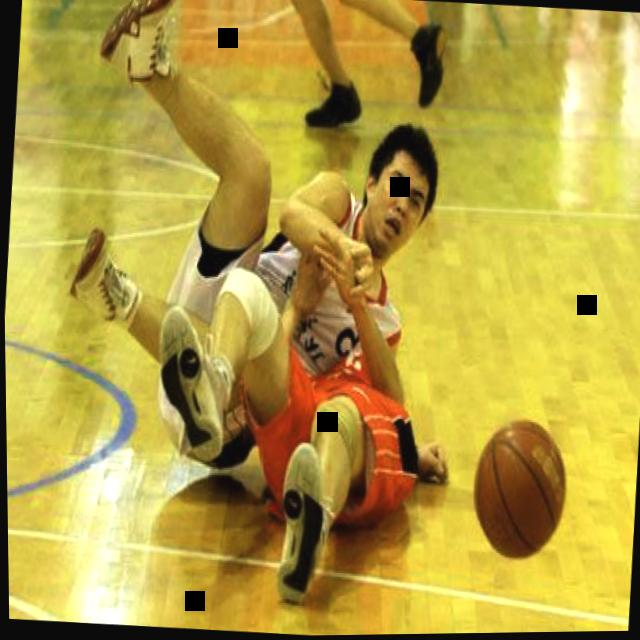Fall-Detected: (219, 288, 466, 603)
